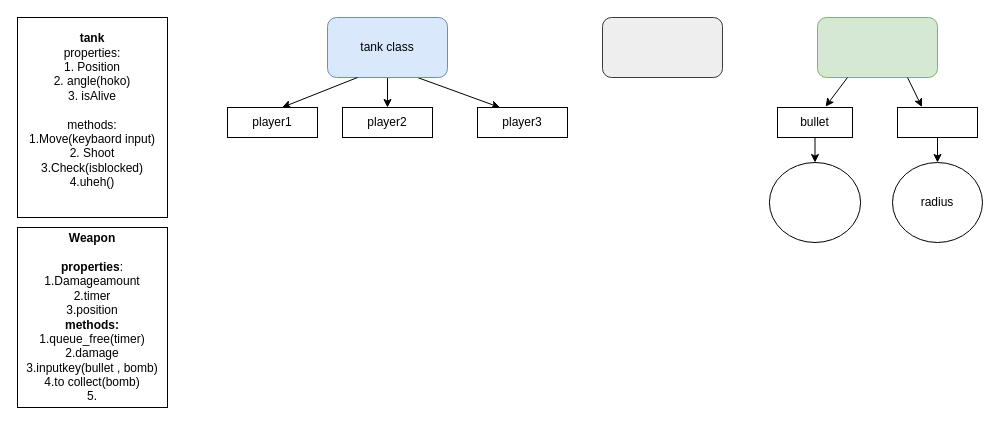
Some shapes in this 1000 by 425 pixel diagram are drawn without their labels. The shapes that lost their labels are listed below. From the top down, each one's centre as x and y in pixels, then its label:
At [662,47]: "Map wall".
At [877,47]: "weapon class".
At [937,122]: "bomb".
At [814,202]: "angle, direction".
